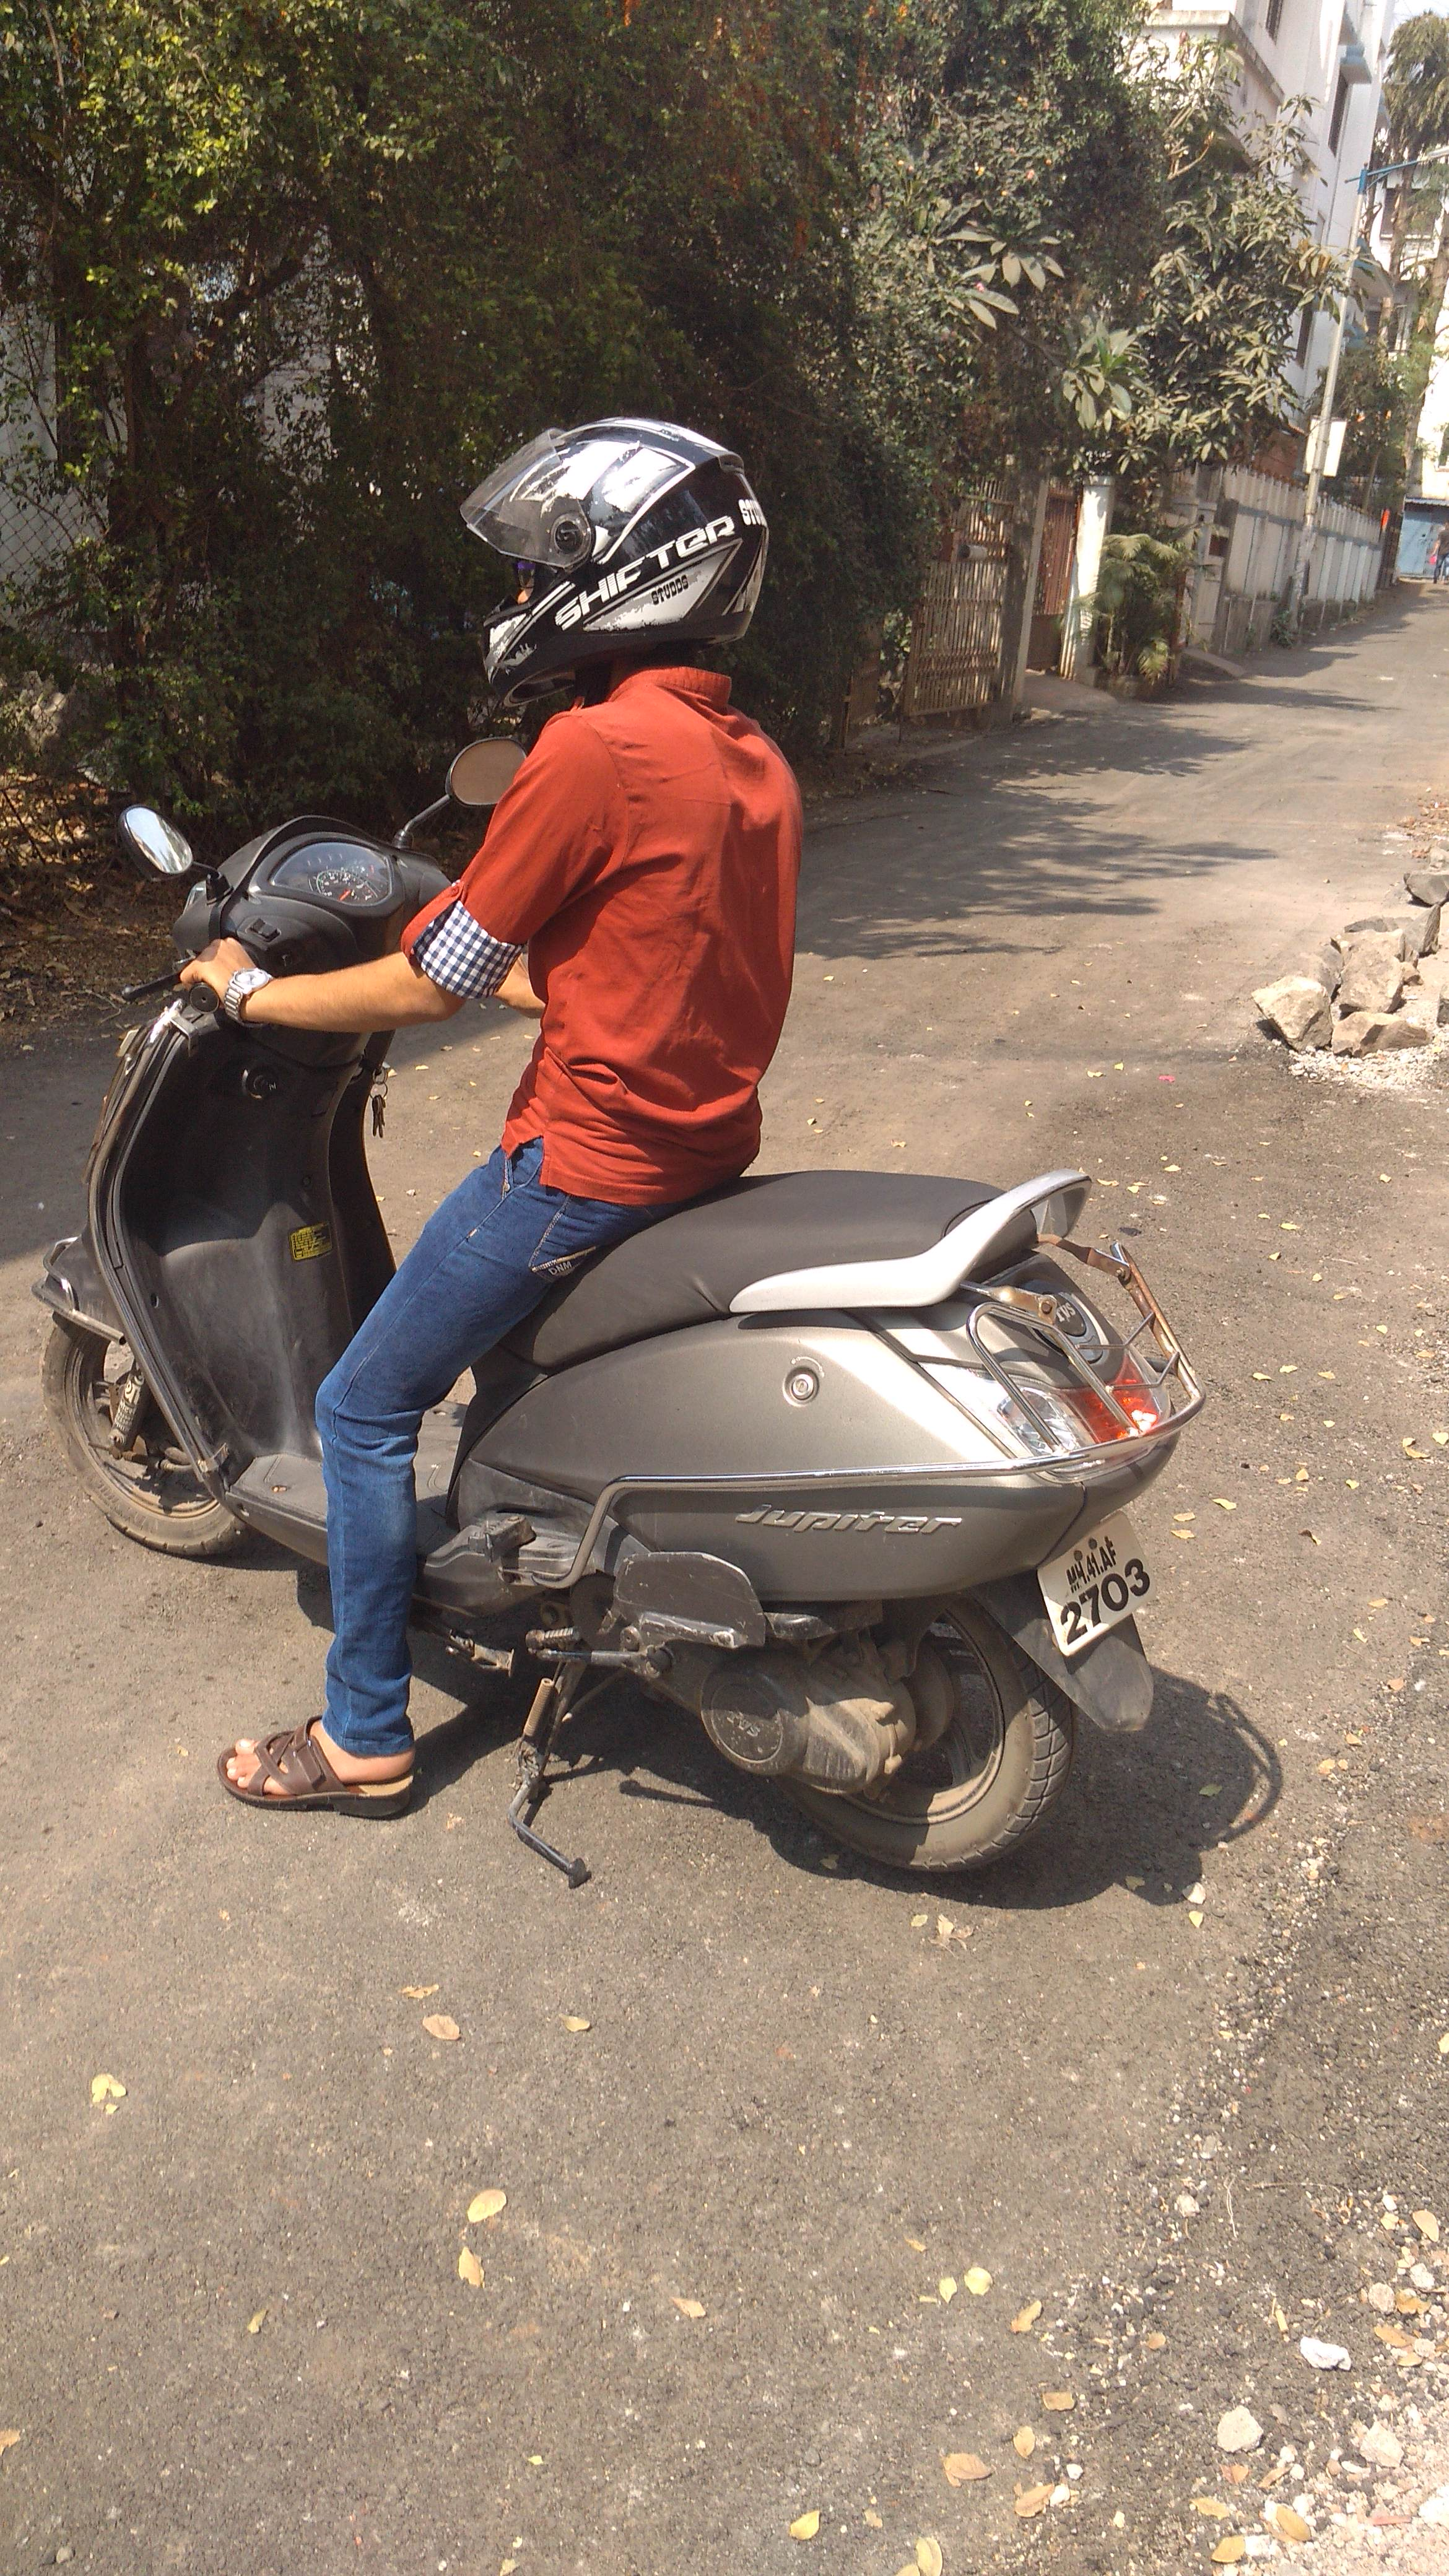helmet: (64, 412, 1221, 1941)
